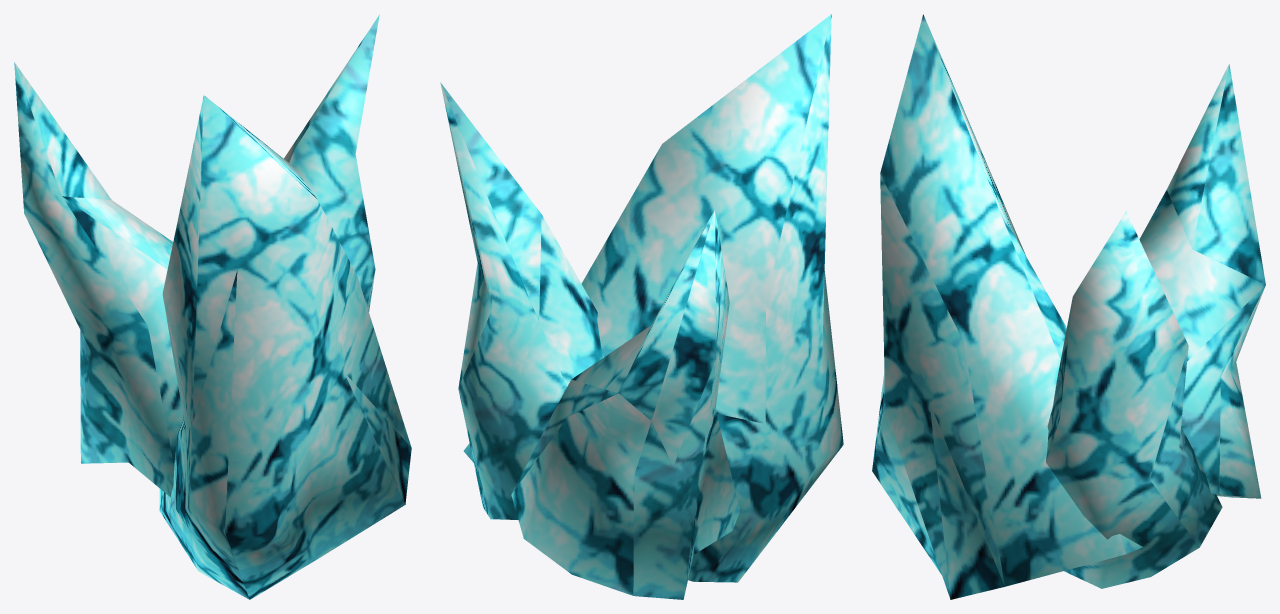
The model's file is IceWall0.fbx.
3 renders of one model, left to right at view 1: azimuth 30°, elevation 25°; view 2: azimuth 150°, elevation 25°; view 3: azimuth 270°, elevation 25°, orthographic. The views are drawn at different scales.
Parts seen in each view (by area): view 1: Icosphere.006; view 2: Icosphere.006; view 3: Icosphere.006.
Part boxes in pixels (box(x1,y1,x2,y2)): Icosphere.006: box(14, 14, 411, 599); Icosphere.006: box(440, 14, 843, 599); Icosphere.006: box(872, 14, 1265, 599).
Size of the model in its own units: 211 by 341 by 225.
